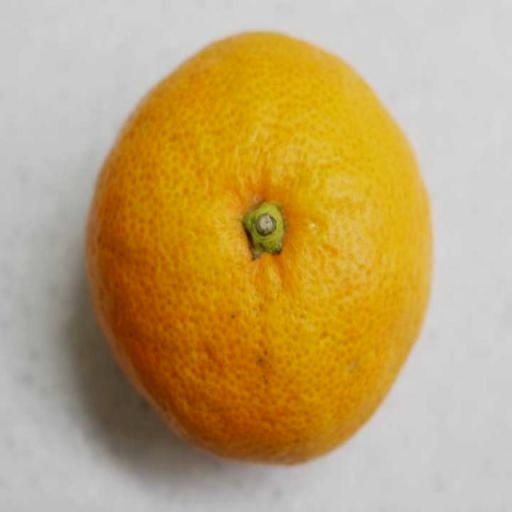fruit: (87, 33, 431, 462)
